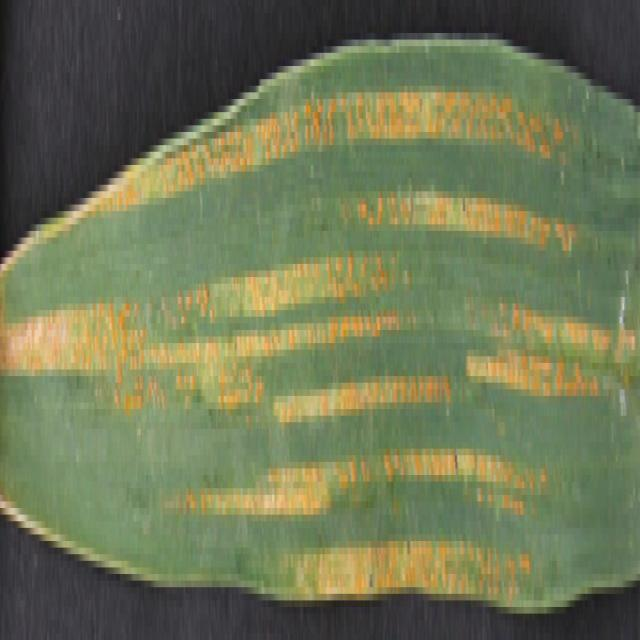leaf rust: (1, 92, 638, 607)
